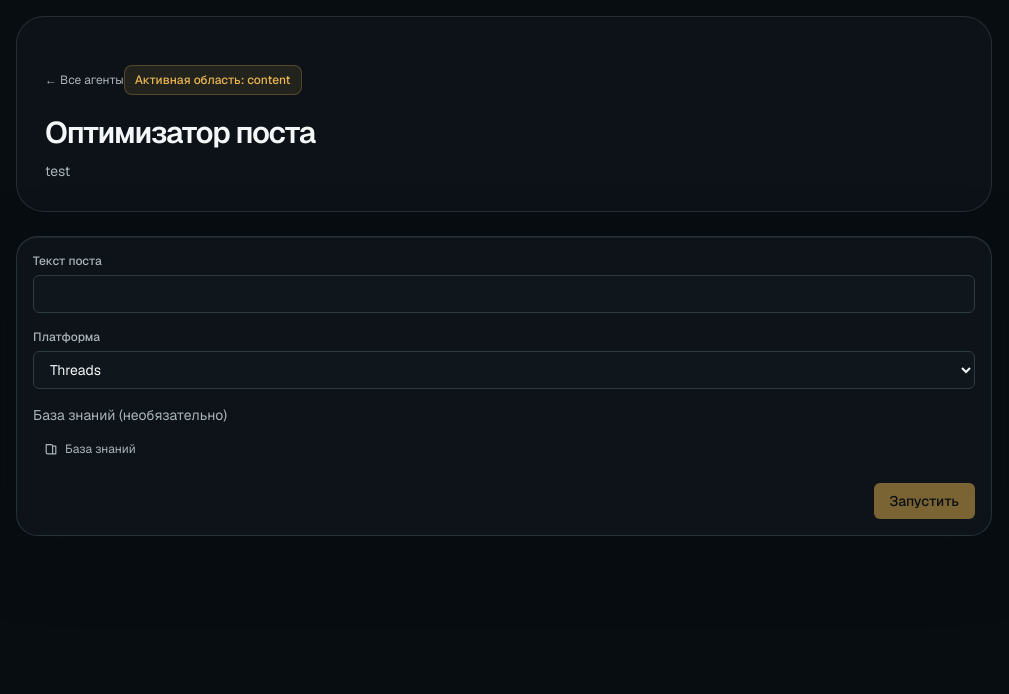
Test: AgentRunPage › renders the content-optimizer result shape
In the field labelled "Текст поста": [504, 294] box [33,275,975,313], type "Черновик поста"
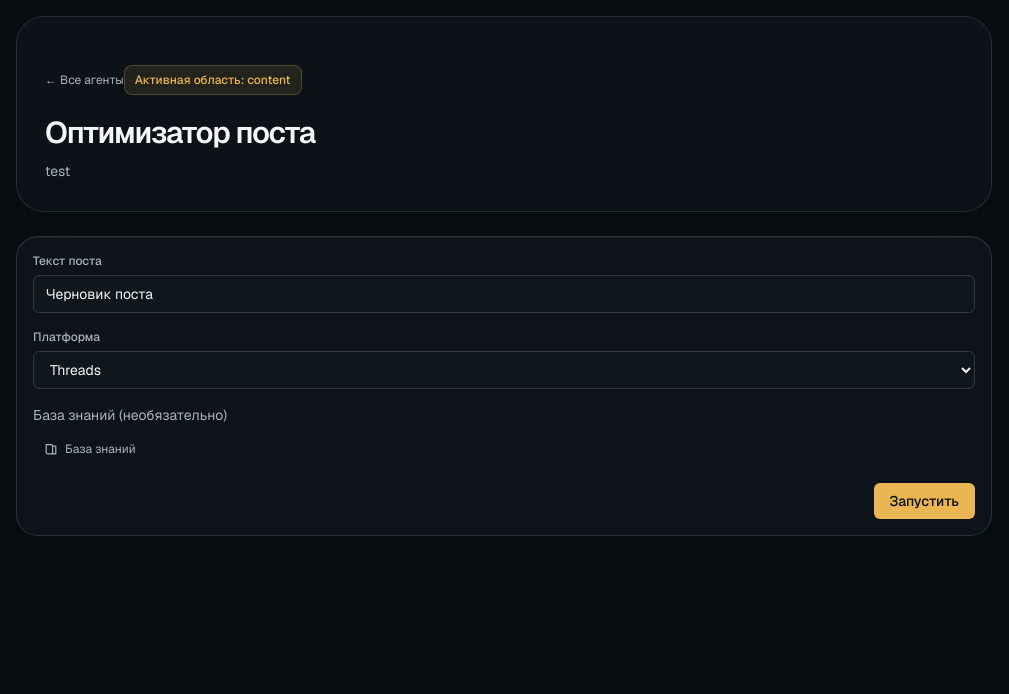
Select "Threads" in the dropdown labelled "Платформа": [504, 370] box [33,351,975,389]
Click the button "Запустить": [924, 501] box [874,483,975,519]
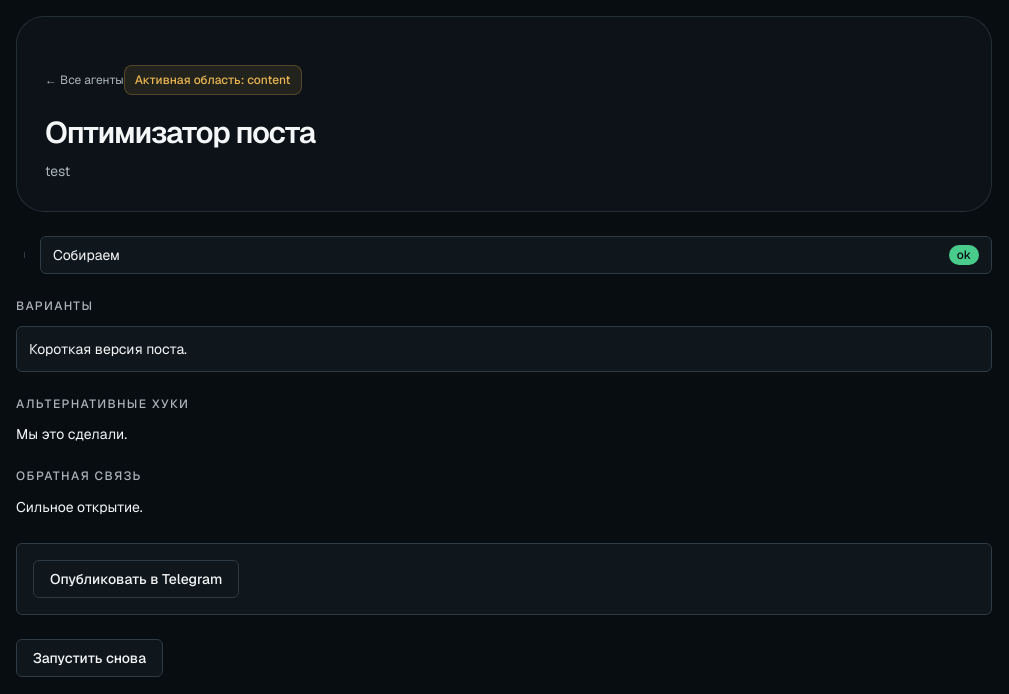
Expected: the heading "Альтернативные хуки" is shown, [16,396,189,412]
Expected: the text "Сильное открытие." is shown, [16,498,143,516]
